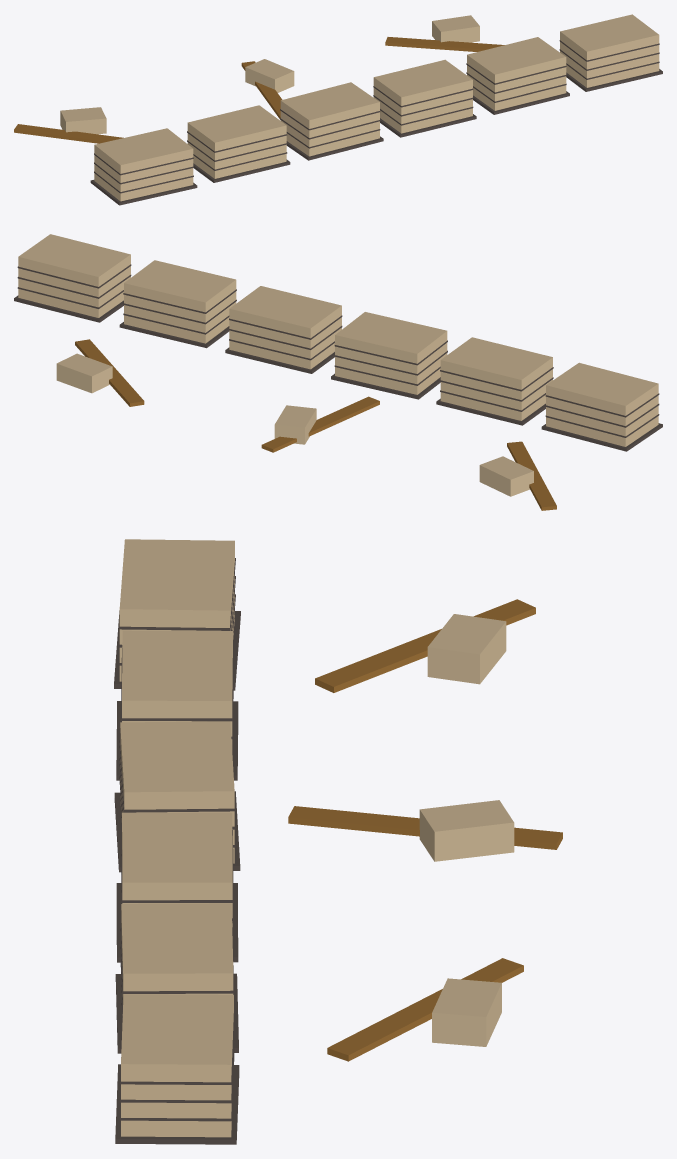
The model's file is SM_AcopioMateriales_v2_Vacio_LOD1.fbx.
The picture shows the model from 3 angles, top to bottom: view 1: azimuth 30°, elevation 25°; view 2: azimuth 150°, elevation 25°; view 3: azimuth 270°, elevation 25°; orthographic projection. The views are drawn at different scales.
Parts seen in each view (by area): view 1: SM_acopio_carga_v12_LOD1; view 2: SM_acopio_carga_v12_LOD1; view 3: SM_acopio_carga_v12_LOD1.
Part boxes in pixels (x1,y1,x2,y2): SM_acopio_carga_v12_LOD1: (14,14,662,205); SM_acopio_carga_v12_LOD1: (14,234,662,510); SM_acopio_carga_v12_LOD1: (114,539,562,1144).
Bounding box in the file's own units: 9.2 × 0.62 × 3.26.
